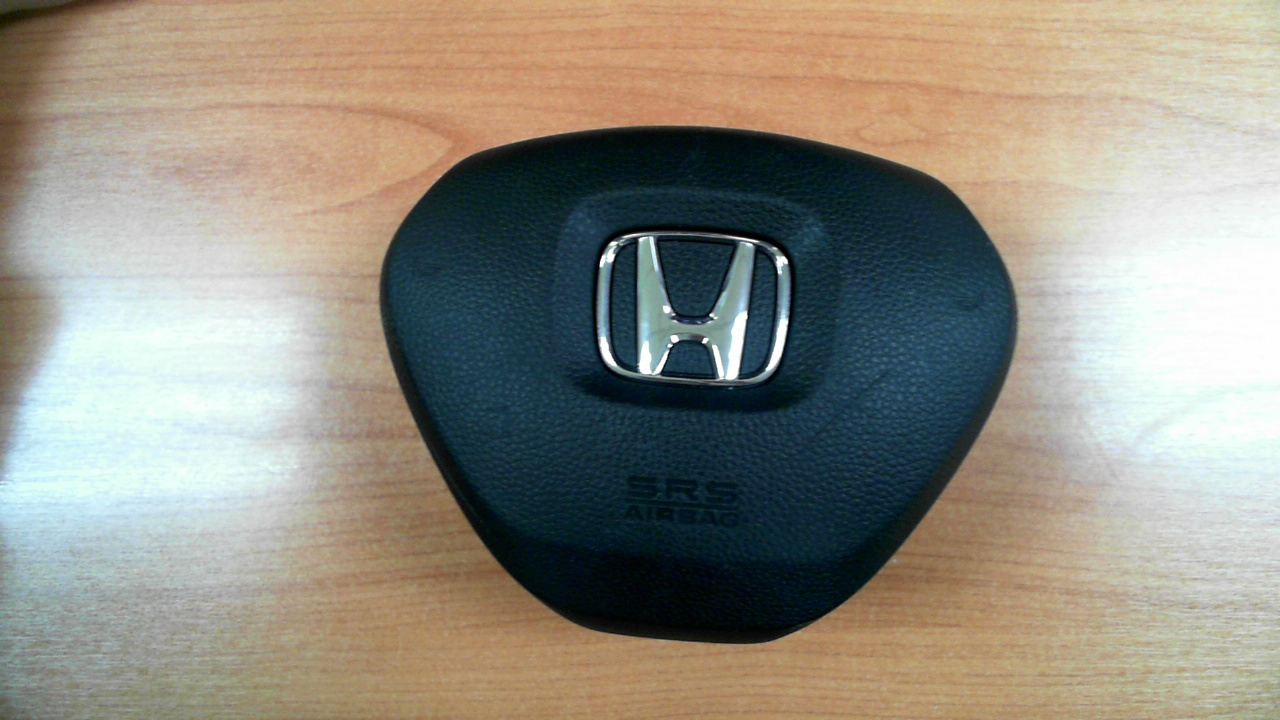Airbag: (379, 125, 1020, 645)
Honda: (597, 234, 791, 381)
